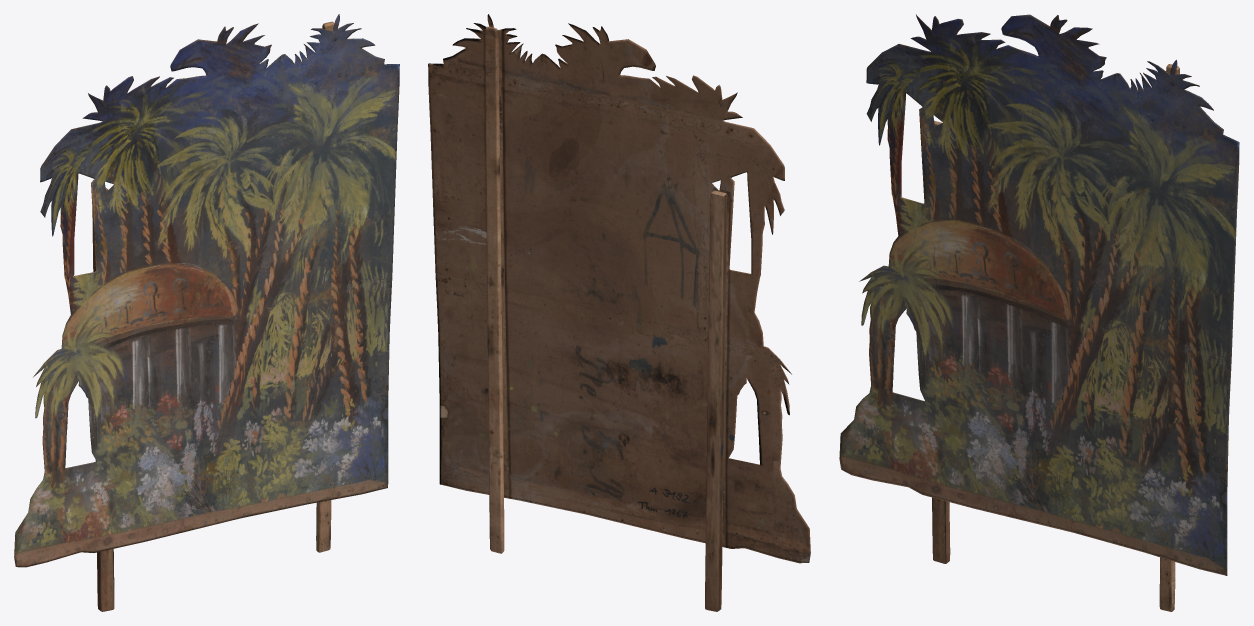
The picture shows the model from 3 angles, left to right: view 1: azimuth 30°, elevation 25°; view 2: azimuth 150°, elevation 25°; view 3: azimuth 330°, elevation 25°; orthographic projection. The views are drawn at different scales.
Visible parts, largest first — view 1: A3191-1, stick1, stick2; view 2: A3191-1, stick2, stick1; view 3: A3191-1, stick1, stick2.
Part boxes in pixels (left/top/right/bottom): A3191-1: left=14, top=14, right=399, bottom=567; stick1: left=92, top=188, right=114, bottom=611; stick2: left=316, top=21, right=334, bottom=552; A3191-1: left=428, top=14, right=810, bottom=563; stick2: left=485, top=26, right=504, bottom=553; stick1: left=705, top=190, right=726, bottom=611; A3191-1: left=839, top=14, right=1239, bottom=575; stick1: left=932, top=121, right=950, bottom=563; stick2: left=1159, top=64, right=1179, bottom=611.
Size of the model in its own units: 68.96 by 95.28 by 1.68.
